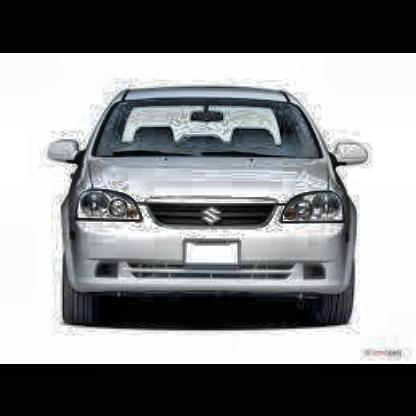Suzuki Aerio Sedan 2007: (53, 82, 374, 330)
